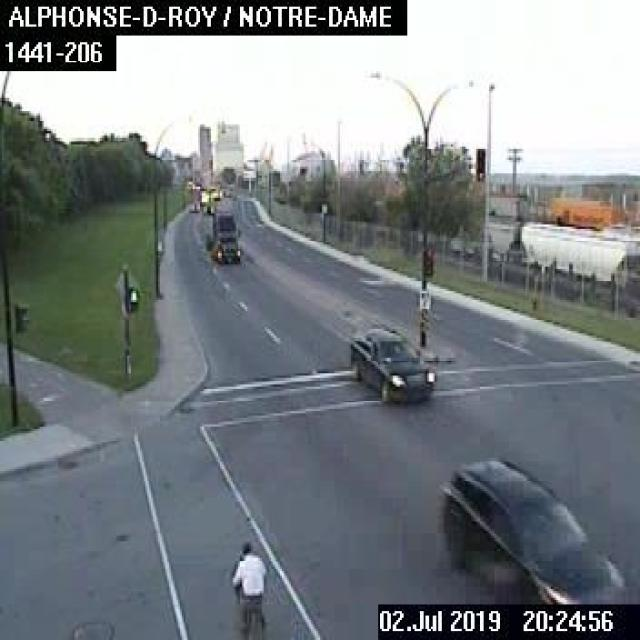cyclist: (438, 453, 626, 602)
pedestrian: (231, 544, 265, 638)
vehicle: (346, 327, 434, 402), (204, 211, 240, 265), (186, 198, 200, 212)
